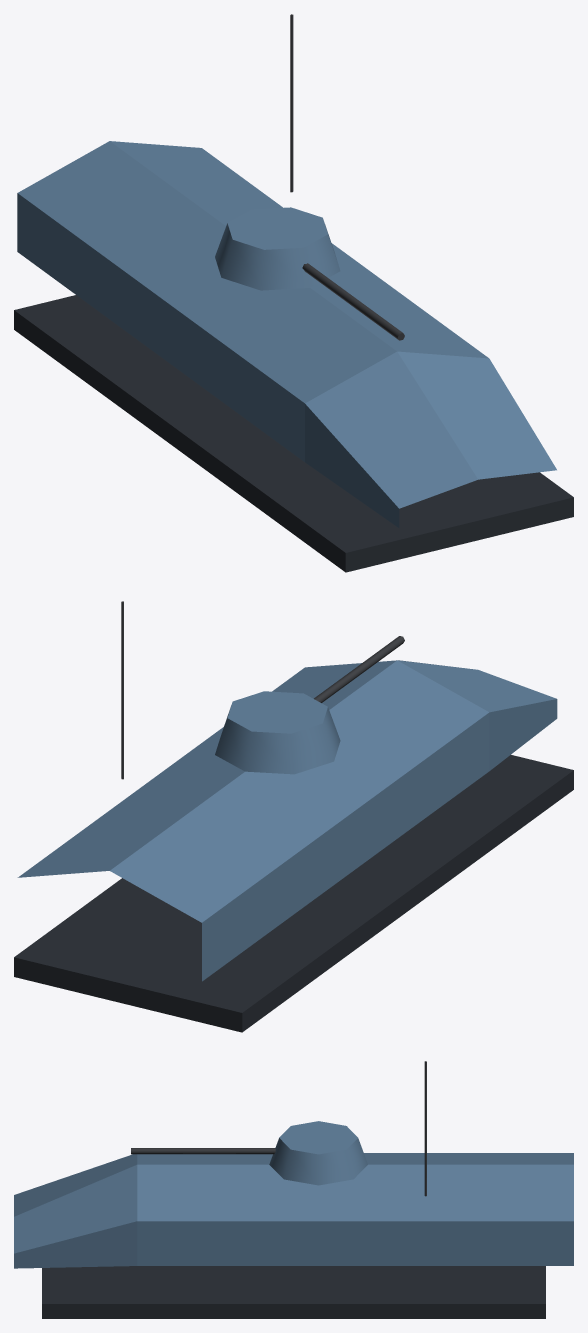
Rendered from veh_ground_scout_car_a10.glb.
3 views of the same model, one above another, from view 1: azimuth 30°, elevation 25°; view 2: azimuth 150°, elevation 25°; view 3: azimuth 270°, elevation 25° (orthographic). The views are drawn at different scales.
Visible parts, largest first — view 1: body, turret; view 2: body, turret; view 3: body, turret.
Part boxes in pixels (<box>): body: <box>14,14,573,572</box>; turret: <box>215,207,404,340</box>; body: <box>14,601,573,1032</box>; turret: <box>215,636,404,774</box>; body: <box>14,1061,573,1318</box>; turret: <box>131,1121,367,1185</box>.
Size of what is drawn, in the model's own units: 2.43 by 3.34 by 6.8.
